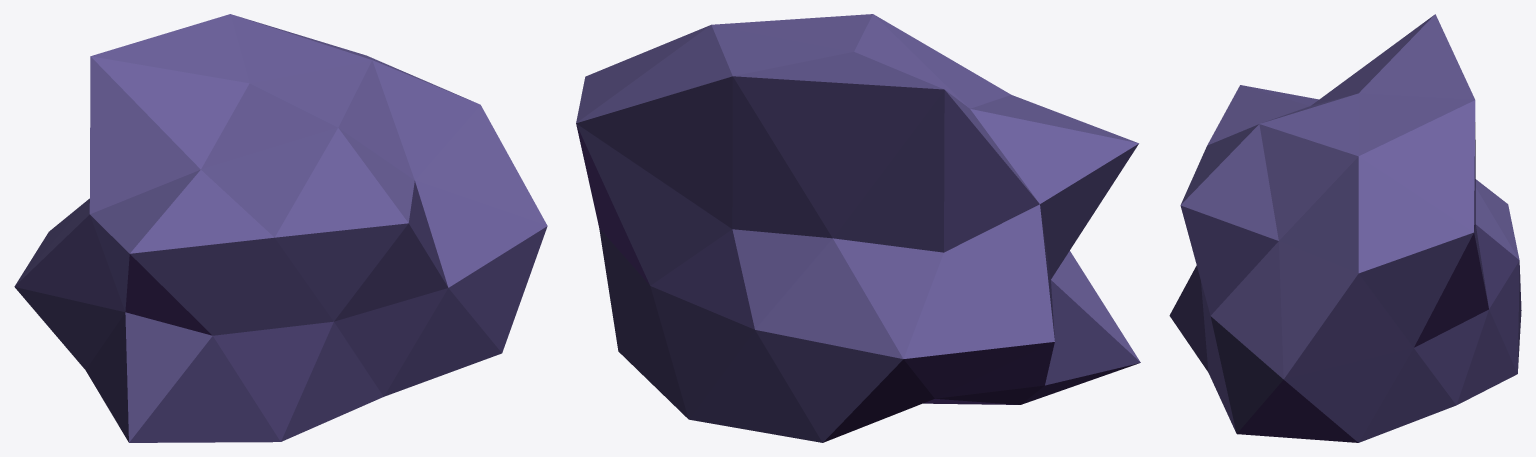
The model's file is Alien_Rock_A.glb.
3 views of the same model, side by side, from view 1: azimuth 30°, elevation 25°; view 2: azimuth 150°, elevation 25°; view 3: azimuth 270°, elevation 25° (orthographic). The views are drawn at different scales.
Parts seen in each view (by area): view 1: Alien_Rock_A; view 2: Alien_Rock_A; view 3: Alien_Rock_A.
Part boxes in pixels (x1,y1,x2,y2): Alien_Rock_A: [14, 14, 547, 442]; Alien_Rock_A: [576, 14, 1140, 442]; Alien_Rock_A: [1169, 14, 1521, 442].
Size of the model in its own units: 3.31 by 2.02 by 2.31.
1 material, 1 textured.
